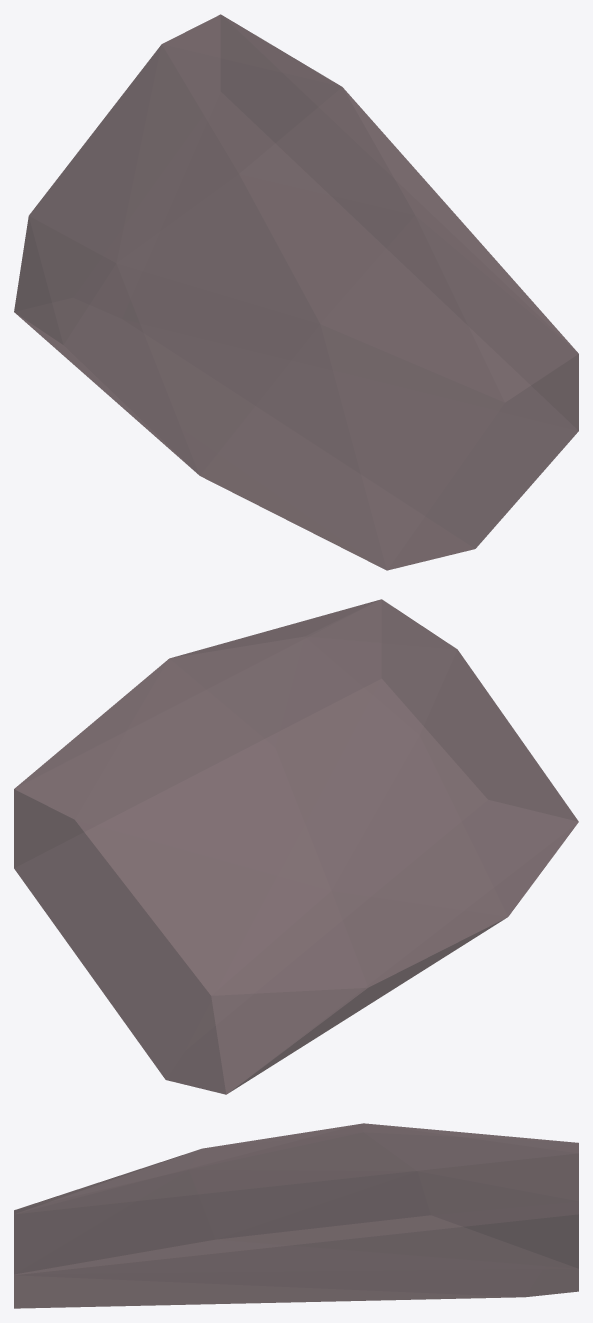
3 views of the same model, one above another, from view 1: azimuth 30°, elevation 25°; view 2: azimuth 150°, elevation 25°; view 3: azimuth 270°, elevation 25° (orthographic). The views are drawn at different scales.
Visible parts, largest first — view 1: Shape_IndexedFaceSet.039_Shape_IndexedFaceSet.8638; view 2: Shape_IndexedFaceSet.039_Shape_IndexedFaceSet.8638; view 3: Shape_IndexedFaceSet.039_Shape_IndexedFaceSet.8638.
Part boxes in pixels (x1=…): Shape_IndexedFaceSet.039_Shape_IndexedFaceSet.8638: x1=14, y1=14, x2=578, y2=570; Shape_IndexedFaceSet.039_Shape_IndexedFaceSet.8638: x1=14, y1=599, x2=578, y2=1094; Shape_IndexedFaceSet.039_Shape_IndexedFaceSet.8638: x1=14, y1=1123, x2=578, y2=1308.
Size of the model in its own units: 0.0852 by 0.0901 by 0.2104.
